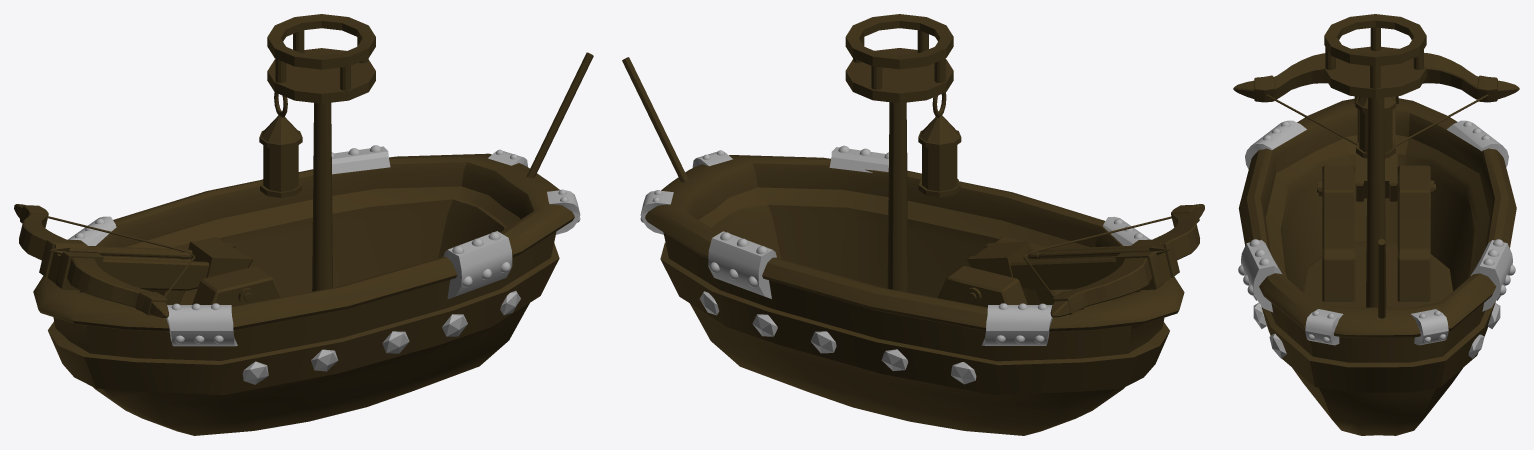
File: EnemyRangedTier2.fbx
3 views of the same model, side by side, from view 1: azimuth 30°, elevation 25°; view 2: azimuth 150°, elevation 25°; view 3: azimuth 270°, elevation 25° (orthographic). The views are drawn at different scales.
Visible parts, largest first — view 1: pCylinder17, polySurface43; view 2: pCylinder17, polySurface43; view 3: pCylinder17, polySurface43.
Boxes of the visible parts, left/top/right/bottom form: pCylinder17: left=14, top=14, right=593, bottom=435; polySurface43: left=68, top=145, right=580, bottom=384; pCylinder17: left=622, top=14, right=1204, bottom=435; polySurface43: left=640, top=145, right=1150, bottom=384; pCylinder17: left=1233, top=14, right=1519, bottom=435; polySurface43: left=1238, top=120, right=1515, bottom=358.
Size of the model in its own units: 3.22 by 2.06 by 1.52.
